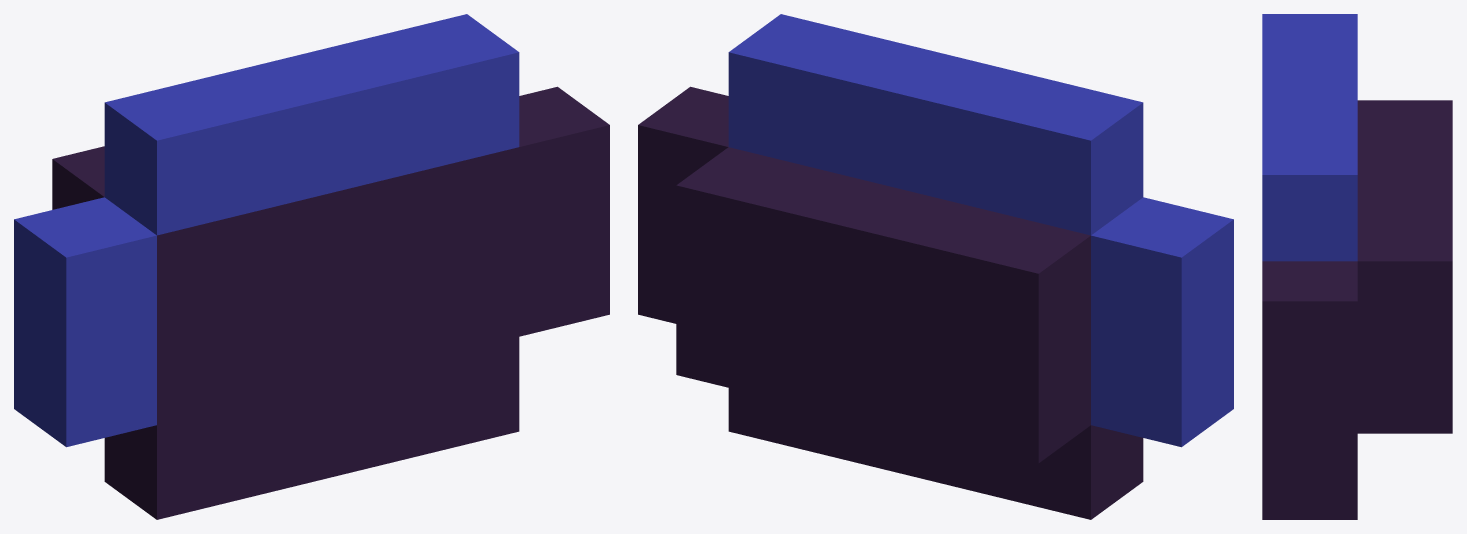
The model's file is debris-1.obj.
3 views of the same model, side by side, from view 1: azimuth 30°, elevation 25°; view 2: azimuth 150°, elevation 25°; view 3: azimuth 270°, elevation 25° (orthographic). The views are drawn at different scales.
Size of the model in its own units: 0.6 by 0.4 by 0.2.
